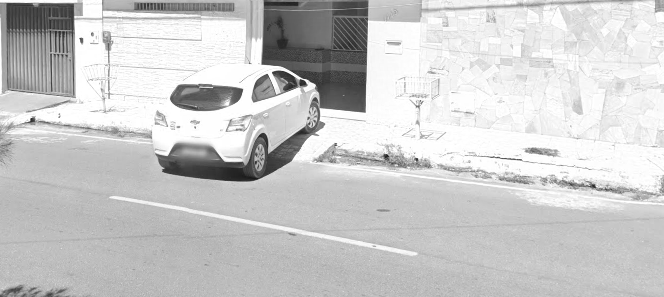car: (149, 53, 332, 185)
